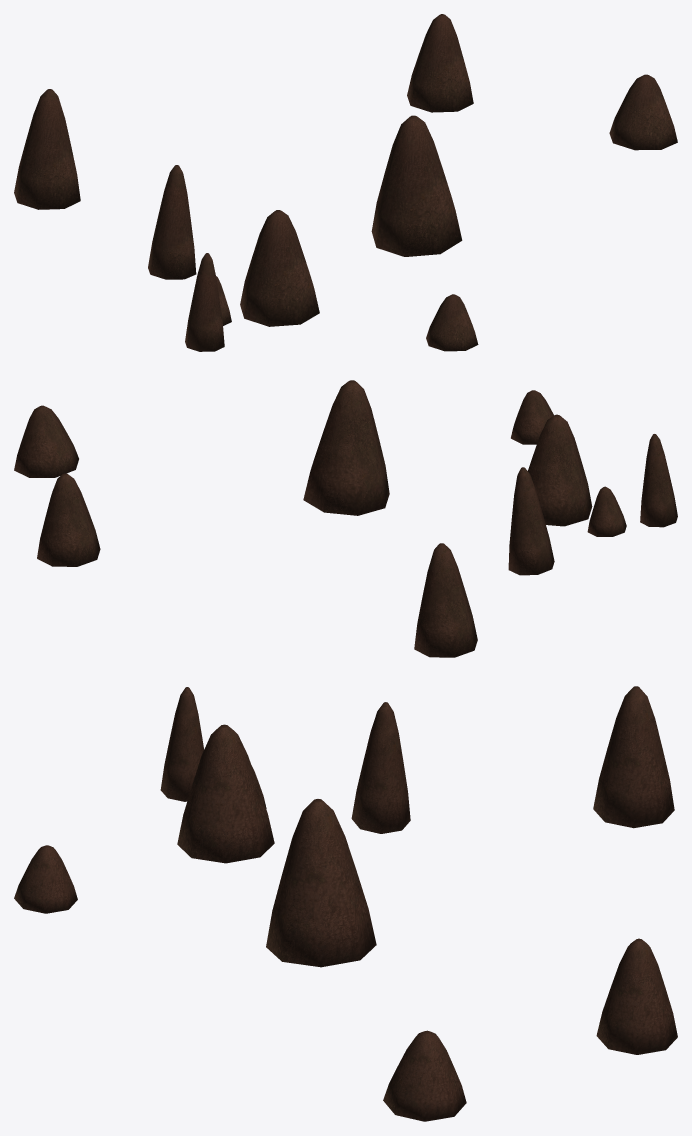
Rendered from baldcypress_knees_v01.fbx.
3 renders of one model, top to bottom at view 1: azimuth 30°, elevation 25°; view 2: azimuth 150°, elevation 25°; view 3: azimuth 270°, elevation 25°, orthographic. The views are drawn at different scales.
Visible parts, largest first — view 1: baldcypress_knees_v01; view 2: baldcypress_knees_v01; view 3: baldcypress_knees_v01.
Boxes of the visible parts, x1,y1,x2,y2 form: baldcypress_knees_v01: (14, 14, 677, 351); baldcypress_knees_v01: (14, 380, 677, 657); baldcypress_knees_v01: (14, 686, 677, 1121).
Bounding box in the file's own units: 274 × 227 × 54.87.
Materials: 1 (1 with a texture image).
